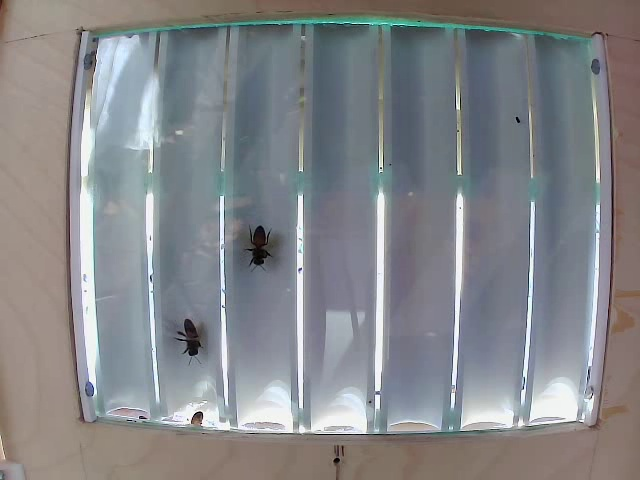bee: (244, 218, 274, 278), (168, 307, 197, 356)
